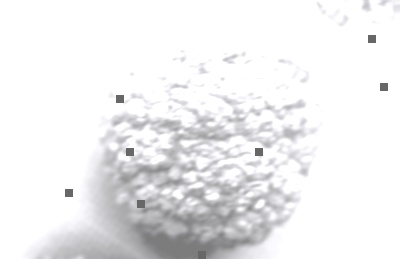halobolite: (91, 33, 333, 255)
